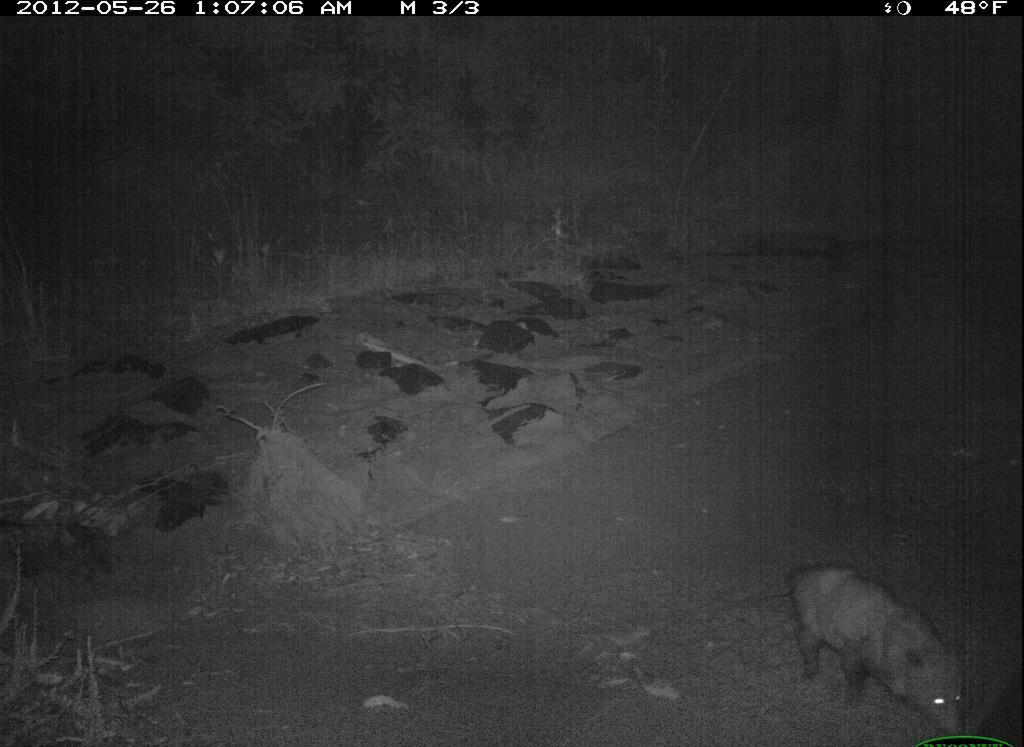opossum: (781, 556, 972, 747)
